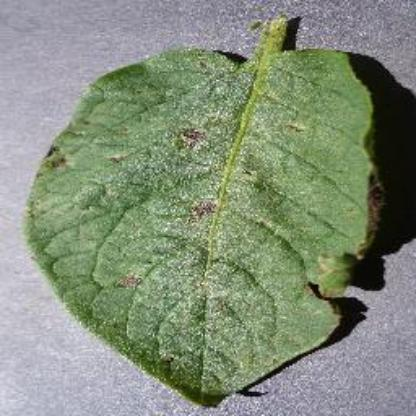Early-Blight: (24, 8, 400, 410)
